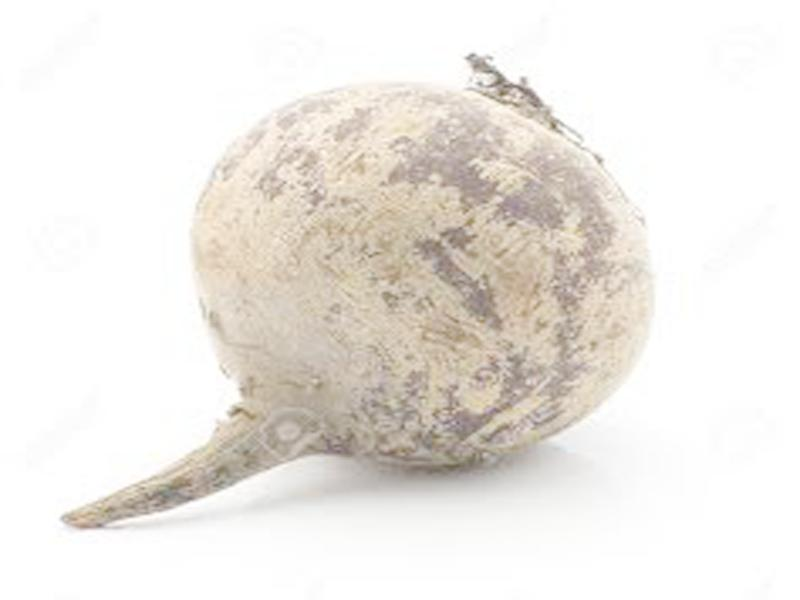Beet: (64, 54, 655, 526)
